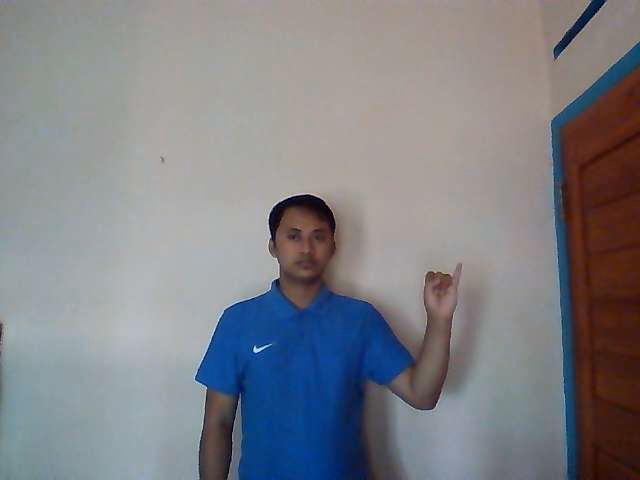I: (422, 262, 464, 316)
